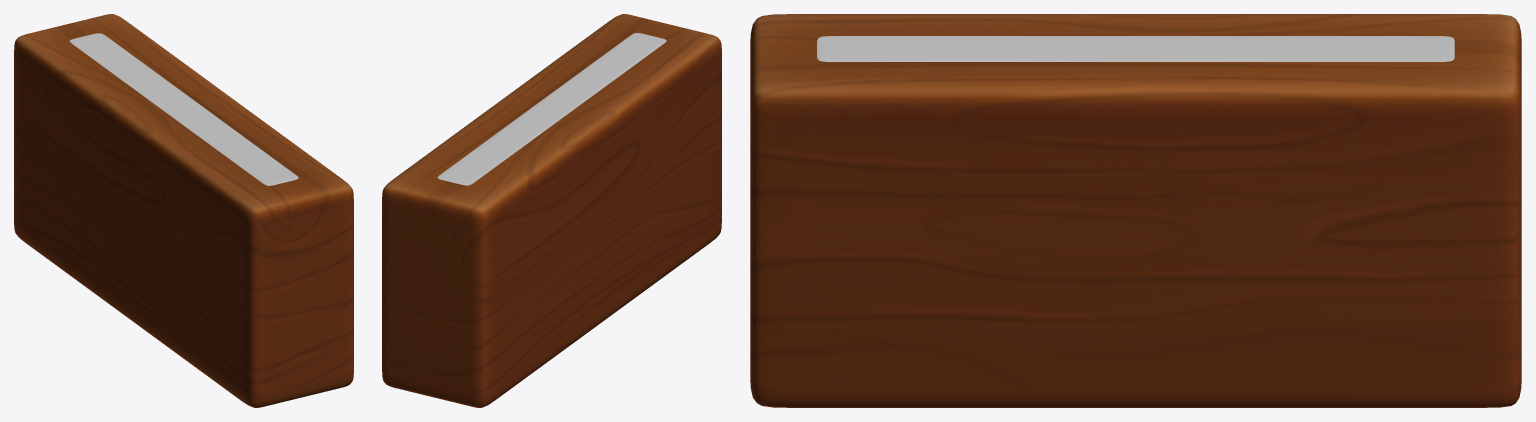
Rendered from wall_4_2.fbx.
3 views of the same model, side by side, from view 1: azimuth 30°, elevation 25°; view 2: azimuth 150°, elevation 25°; view 3: azimuth 270°, elevation 25° (orthographic). The views are drawn at different scales.
Parts seen in each view (by area): view 1: wall_4, lego_point; view 2: wall_4, lego_point; view 3: wall_4, lego_point.
Boxes of the visible parts, left/top/right/bottom form: wall_4: left=14, top=14, right=353, bottom=407; lego_point: left=69, top=33, right=298, bottom=185; wall_4: left=382, top=14, right=721, bottom=407; lego_point: left=437, top=33, right=666, bottom=185; wall_4: left=750, top=14, right=1521, bottom=407; lego_point: left=817, top=36, right=1454, bottom=61.
Bounding box in the file's own units: 1.02 × 1.86 × 4.02.
